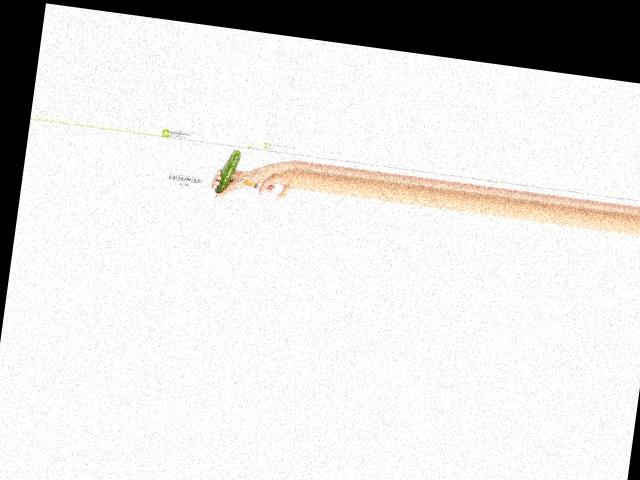cucumber: (215, 147, 242, 195)
